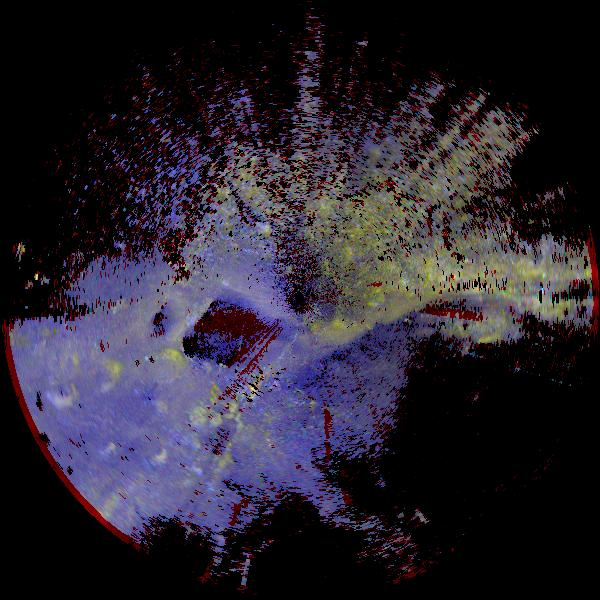roost: (85, 356, 124, 395), (150, 350, 186, 386), (47, 374, 80, 407)
